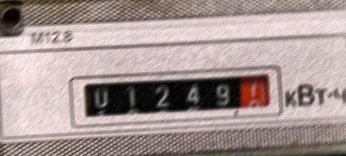0: (89, 81, 110, 109)
1: (121, 82, 138, 108)
2: (151, 82, 173, 110)
4: (184, 78, 203, 107)
7: (244, 74, 261, 99)
9: (213, 80, 232, 106)
screen: (60, 55, 297, 144)
